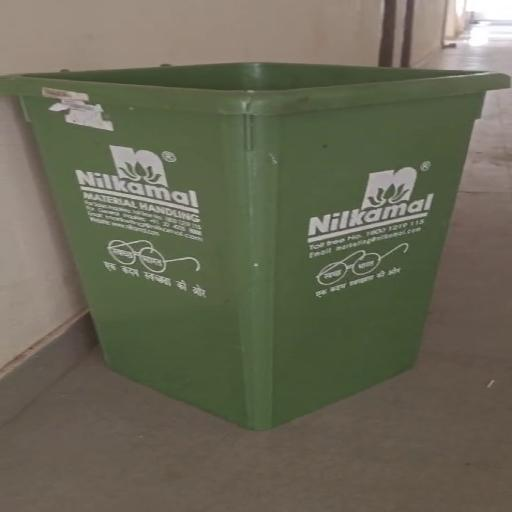Nilkamal-dustbin-detection: (0, 63, 508, 428)
